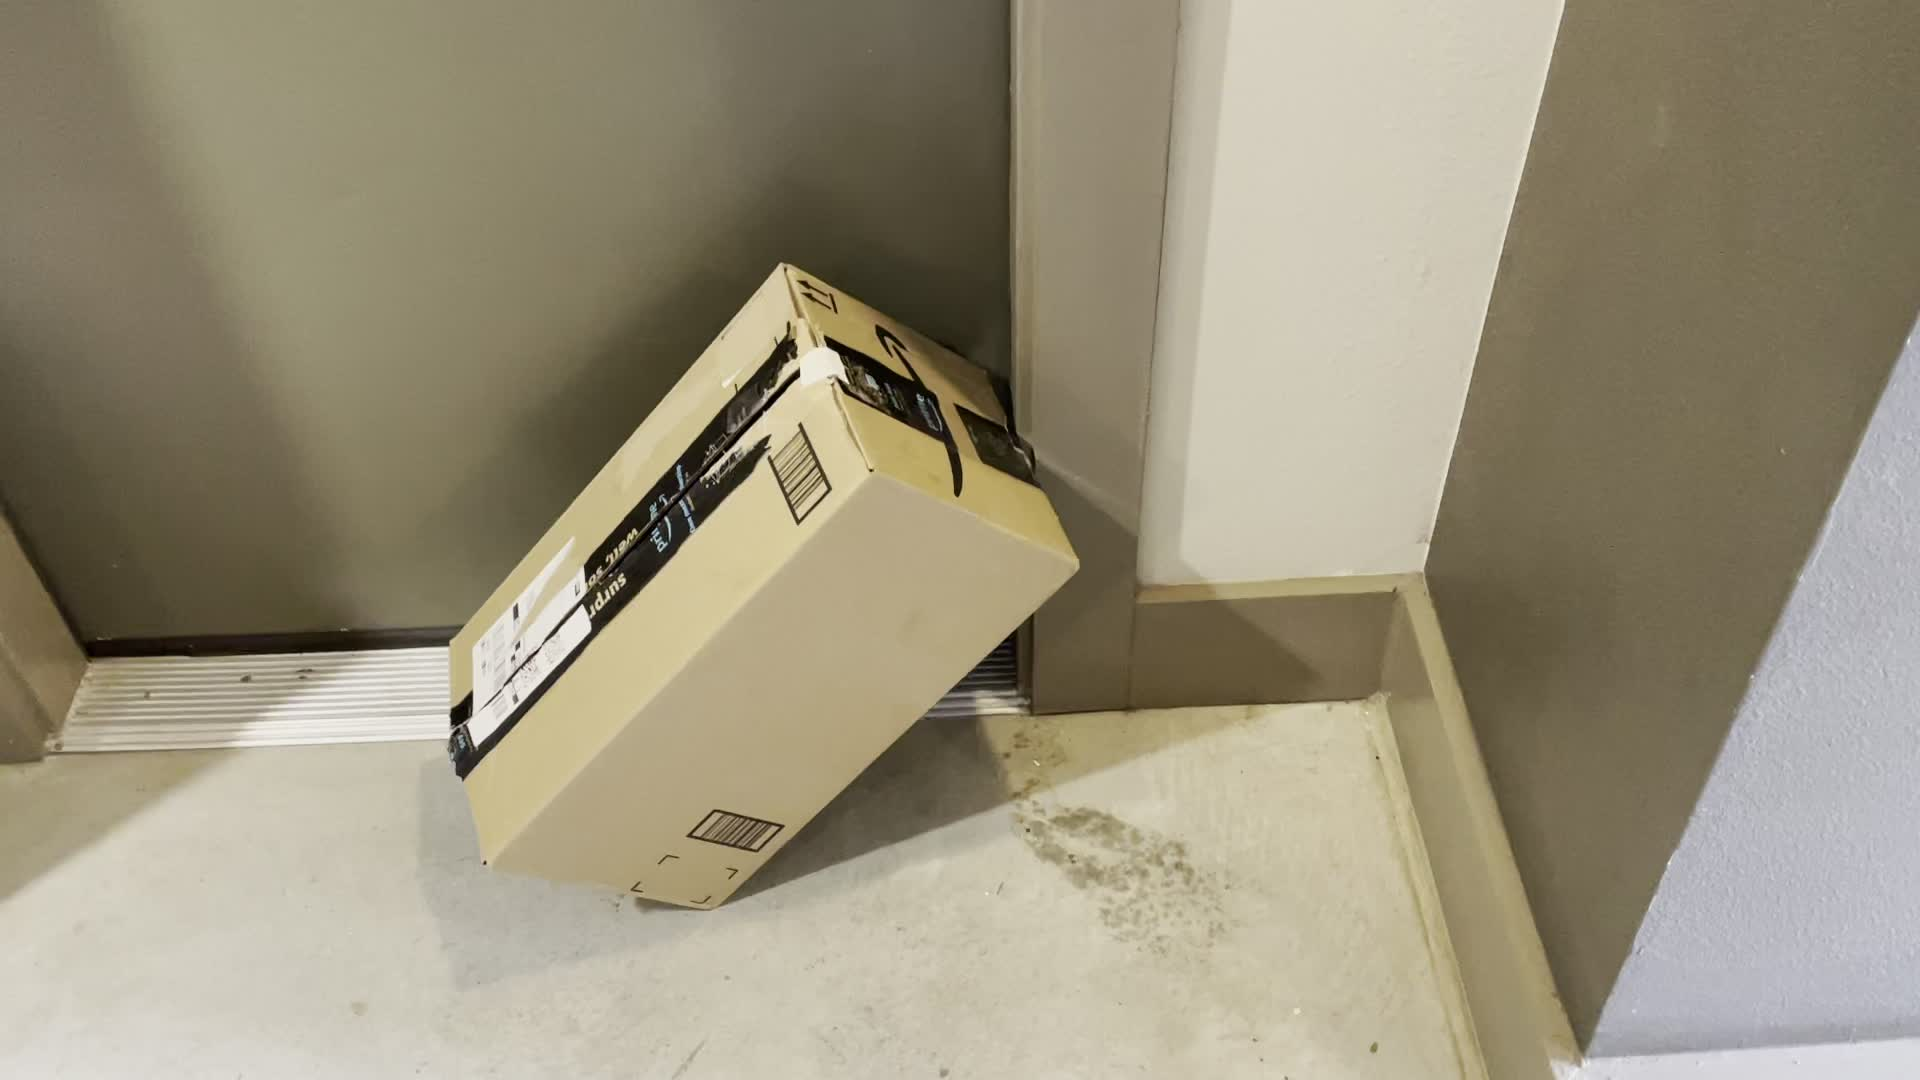box: (439, 204, 1098, 960)
